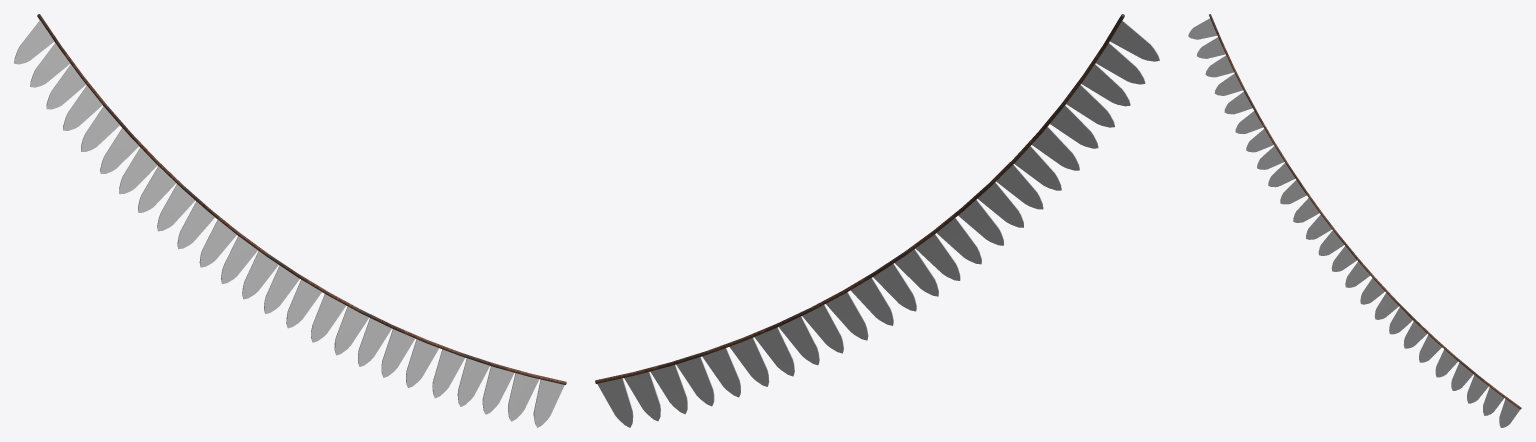
The model's file is lenta3.FBX.
3 renders of one model, left to right at view 1: azimuth 30°, elevation 25°; view 2: azimuth 150°, elevation 25°; view 3: azimuth 330°, elevation 25°, orthographic. The views are drawn at different scales.
Visible parts, largest first — view 1: Box002, Box003, Box001, Box004, Box005, Cylinder001; view 2: Box001, Box002, Box005, Box004, Box003, Cylinder001; view 3: Box005, Box004, Box003, Box002, Box001, Cylinder001.
Boxes of the visible parts, x1,y1,x2,y2 form: Box002: [311, 294, 438, 387]; Box003: [199, 220, 321, 328]; Box001: [432, 349, 564, 427]; Box004: [100, 128, 214, 248]; Box005: [14, 20, 119, 151]; Cylinder001: [37, 14, 566, 384]; Box001: [597, 348, 740, 427]; Box002: [729, 292, 868, 386]; Box005: [1050, 20, 1159, 148]; Box004: [958, 126, 1079, 245]; Box003: [851, 217, 981, 325]; Cylinder001: [595, 14, 1124, 383]; Box005: [1188, 18, 1252, 114]; Box004: [1235, 111, 1306, 204]; Box003: [1293, 198, 1370, 287]; Box002: [1360, 278, 1441, 362]; Box001: [1435, 349, 1519, 427]; Cylinder001: [1209, 14, 1521, 409].
Size of the model in its own units: 343 by 314 by 25.84.
